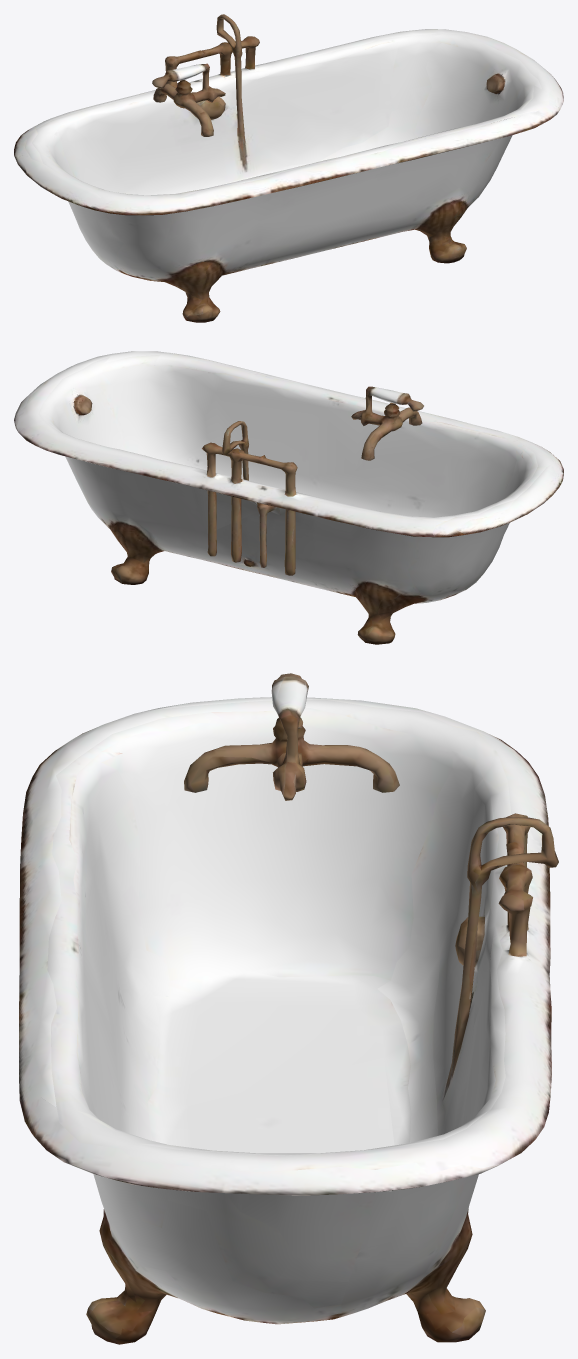
File: tina_bano.glb
3 renders of one model, top to bottom at view 1: azimuth 30°, elevation 25°; view 2: azimuth 150°, elevation 25°; view 3: azimuth 270°, elevation 25°, orthographic. The views are drawn at different scales.
Parts seen in each view (by area): view 1: geometry_0; view 2: geometry_0; view 3: geometry_0.
Part boxes in pixels (left/top/right/bottom): geometry_0: left=14, top=14, right=563, bottom=322; geometry_0: left=14, top=351, right=563, bottom=644; geometry_0: left=19, top=673, right=558, bottom=1344.
Size of the model in its own units: 1.6 by 0.65 by 0.7501.
Materials: 1 (1 with a texture image).
